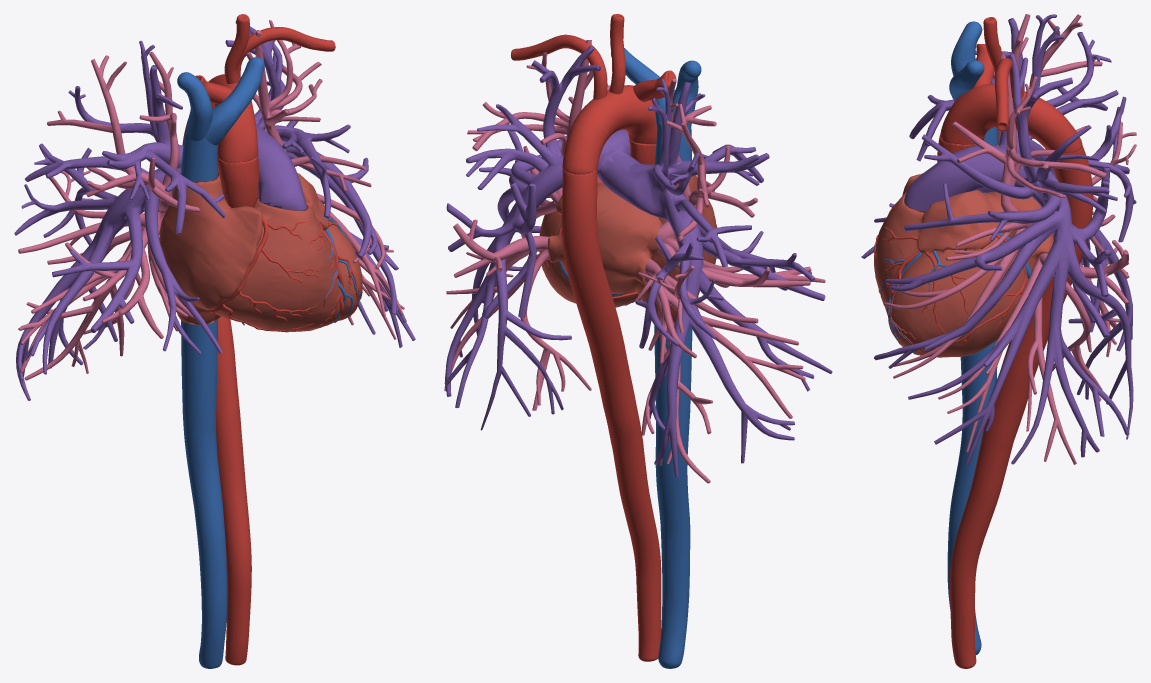
3 renders of one model, left to right at view 1: azimuth 30°, elevation 25°; view 2: azimuth 150°, elevation 25°; view 3: azimuth 270°, elevation 25°, orthographic. The views are drawn at different scales.
Visible parts, largest first — view 1: s21, s0, s27, s17, s22, s24, s23, s29, s16, s15, s28, s26 (+5 smaller); view 2: s21, s17, s27, s0, s23, s22, s16, s25, s24, s20, s19, s28 (+2 smaller); view 3: s21, s0, s17, s24, s25, s16, s27, s22, s23, s20, s10, s28 (+5 smaller).
Boxes of the visible parts, x1,y1,x2,y2 form: s21: (14, 20, 415, 400); s0: (159, 171, 362, 331); s27: (181, 320, 227, 668); s17: (182, 119, 251, 665); s22: (47, 51, 199, 338); s24: (246, 20, 403, 316); s23: (18, 170, 145, 380); s29: (204, 57, 264, 145); s16: (208, 74, 258, 162); s15: (217, 155, 258, 207); s28: (177, 72, 212, 140); s26: (181, 130, 217, 181); s21: (444, 45, 832, 476); s17: (561, 168, 661, 661); s27: (654, 323, 692, 668); s0: (539, 175, 717, 323); s23: (634, 259, 805, 483); s22: (657, 78, 825, 287); s16: (562, 85, 657, 174); s25: (444, 219, 591, 410); s24: (467, 40, 610, 237); s20: (511, 34, 607, 99); s19: (609, 14, 625, 94); s28: (672, 60, 701, 127); s21: (861, 14, 1136, 464); s0: (874, 140, 1053, 357); s17: (949, 146, 1093, 668); s24: (883, 54, 1106, 378); s25: (938, 240, 1129, 464); s16: (940, 84, 1082, 153); s27: (947, 339, 997, 654); s22: (975, 14, 1102, 141); s23: (1073, 122, 1136, 356); s20: (995, 58, 1023, 131); s10: (880, 226, 968, 354); s28: (951, 21, 982, 76).
Bounding box in the file's own units: 248 × 425 × 162.
